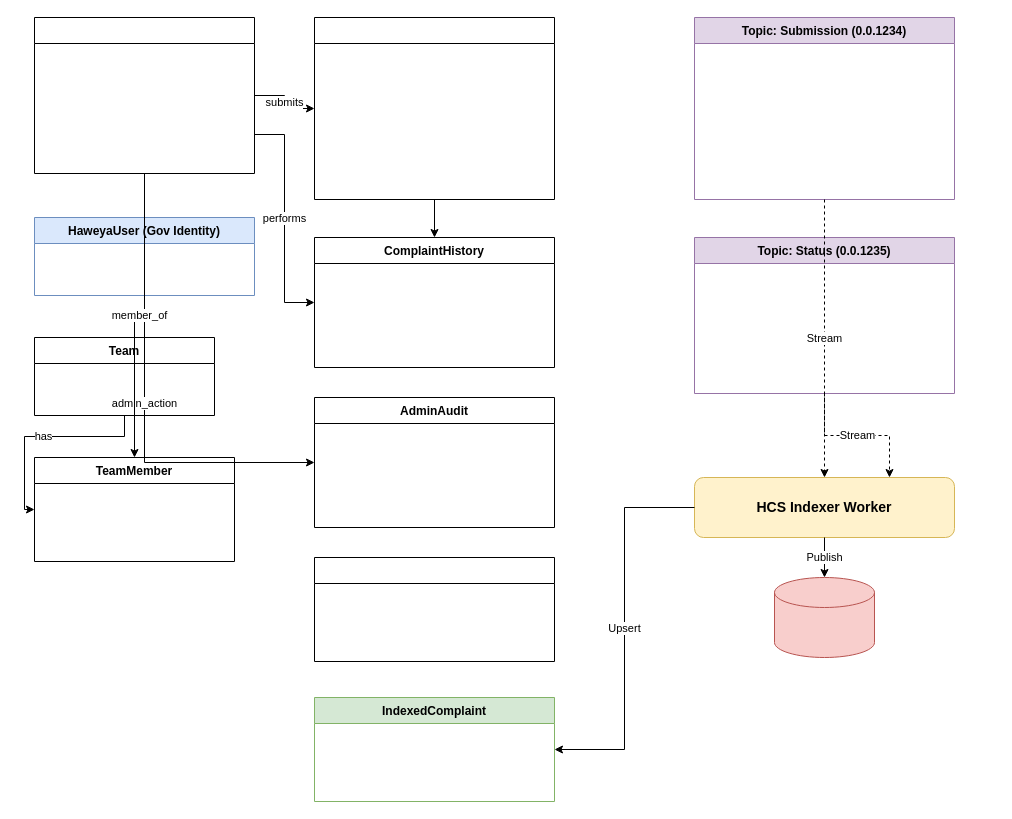
Image size: 1012x819. Some labels were removed from this diagram. The shapes that lost their labels are listed below. From the top down, each one's centre as x and y in pixels, then its label:
At (144,95): "User".
At (434,108): "IdentifiedComplaint".
At (434,609): "IdentityRevealRequest".
At (824,617): "Redis (Pub/Sub)".
